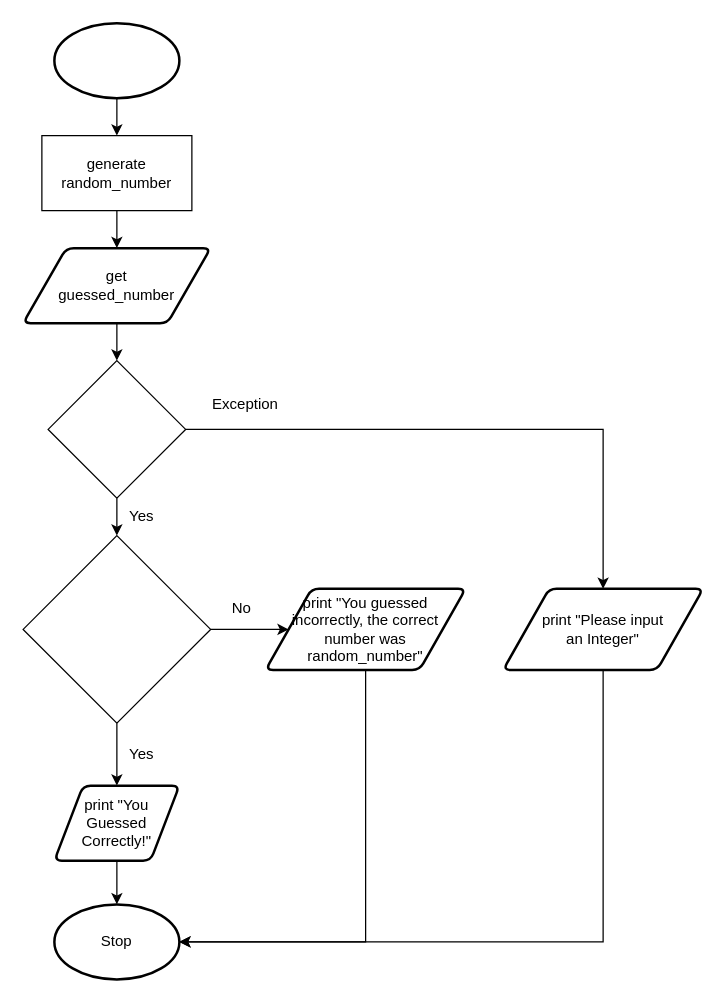
Image size: 725x1001. Some labels were removed from this diagram. Here are the shapes that lost their labels. From the top down, the centre of each, then its label:
At [116,60]: "Start".
At [116,428]: "try".
At [116,628]: "if guessed_number == random _number".
